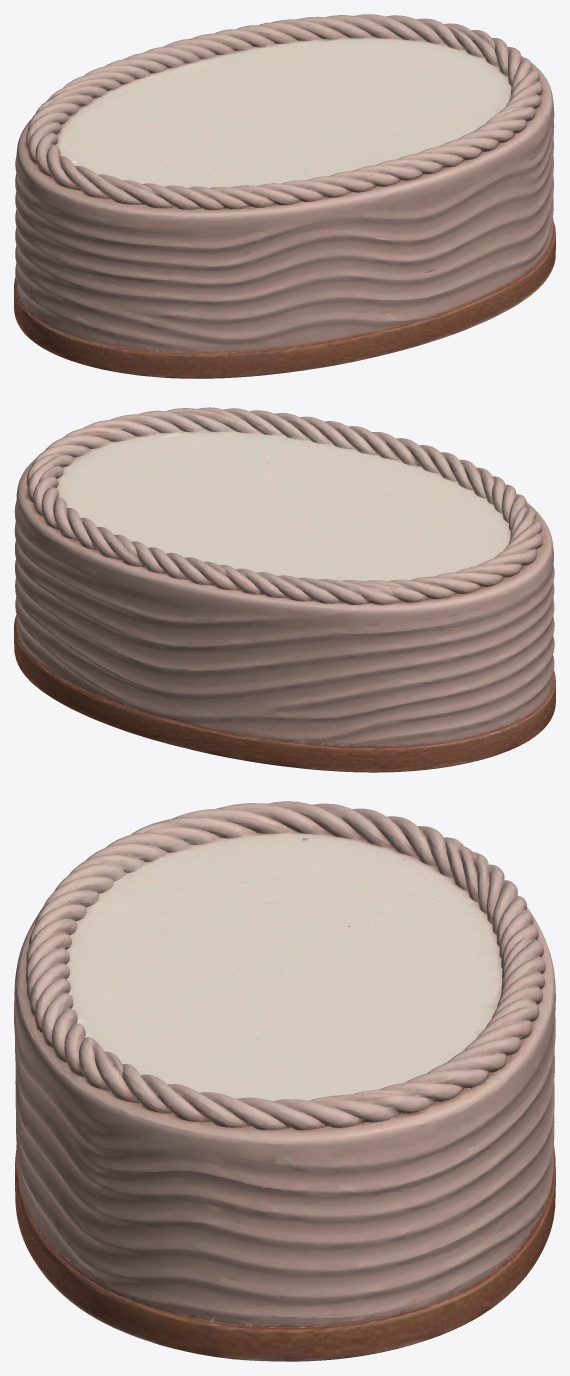
Rendered from cake-03-oval-blush.glb.
The picture shows the model from 3 angles, top to bottom: view 1: azimuth 30°, elevation 25°; view 2: azimuth 150°, elevation 25°; view 3: azimuth 270°, elevation 25°; orthographic projection. The views are drawn at different scales.
Visible parts, largest first — view 1: cake-03; view 2: cake-03; view 3: cake-03.
Part boxes in pixels (x1,y1,x2,y2): cake-03: (14, 14, 555, 378); cake-03: (14, 407, 555, 772); cake-03: (14, 801, 555, 1361).
Size of the model in its own units: 2 by 0.6895 by 1.38.
Materials: 1 (1 with a texture image).
